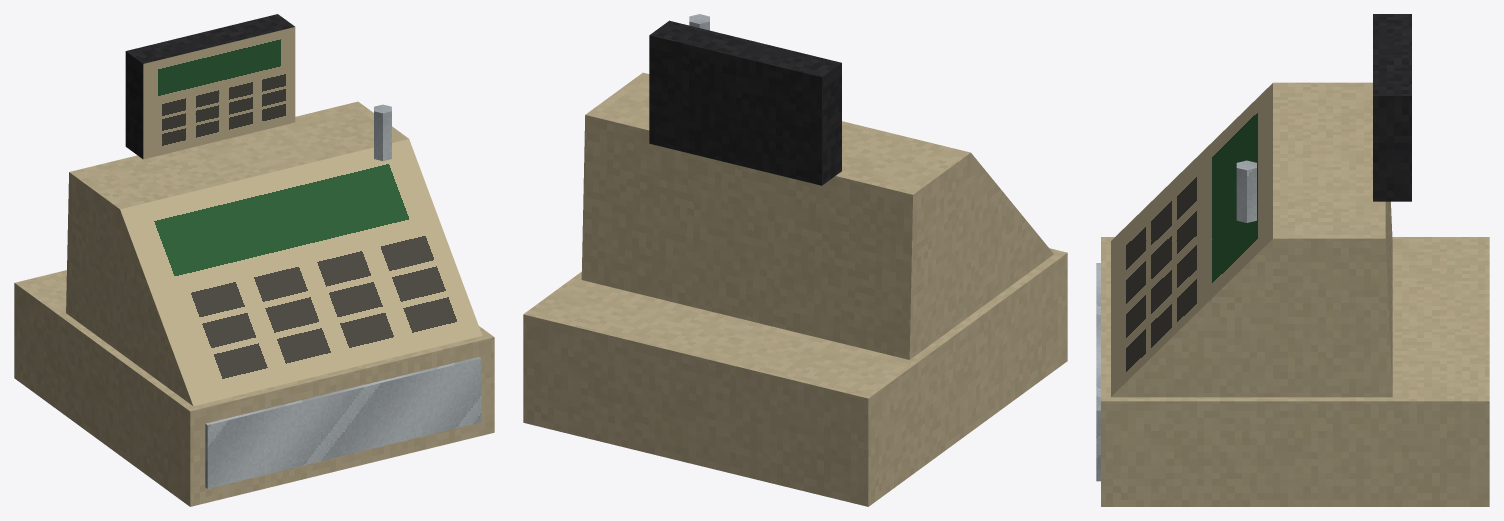
The model's file is cash_register.glb.
3 views of the same model, side by side, from view 1: azimuth 30°, elevation 25°; view 2: azimuth 150°, elevation 25°; view 3: azimuth 270°, elevation 25° (orthographic). The views are drawn at different scales.
Parts seen in each view (by area): view 1: cash_register; view 2: cash_register; view 3: cash_register.
Boxes of the visible parts, left/top/right/bottom form: cash_register: left=14, top=14, right=494, bottom=506; cash_register: left=523, top=14, right=1067, bottom=506; cash_register: left=1096, top=14, right=1489, bottom=506.
Size of the model in its own units: 0.4 by 0.42 by 0.405.
4 materials, 4 textured.
